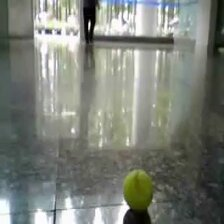tennis: (123, 169, 152, 208)
